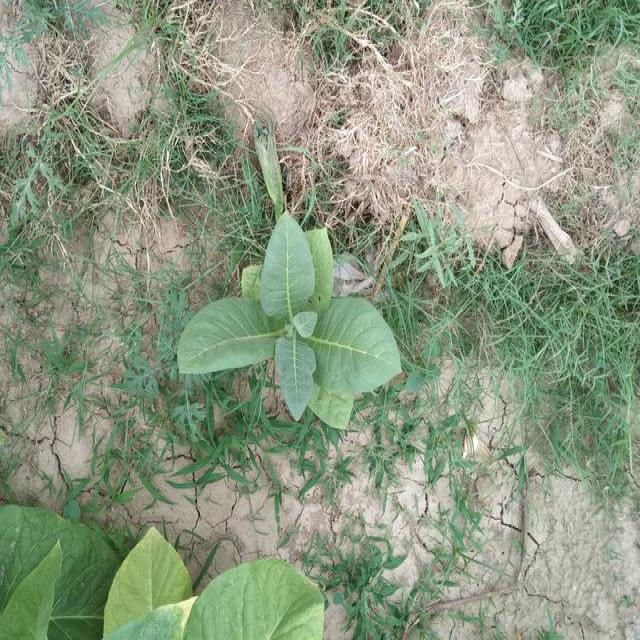crop: (178, 199, 406, 424)
